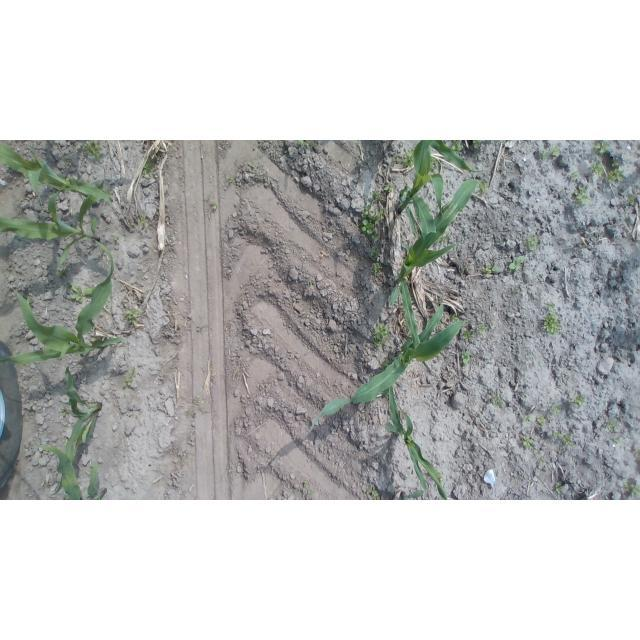Maize: (310, 293, 474, 432), (388, 179, 486, 350), (0, 238, 124, 362), (0, 164, 108, 268), (397, 140, 485, 241), (0, 141, 116, 210), (385, 385, 447, 500), (49, 364, 103, 495), (34, 444, 107, 501), (401, 489, 423, 500)
Weeds: (356, 203, 385, 241), (67, 282, 91, 303), (373, 322, 390, 350), (542, 313, 559, 335), (539, 145, 561, 162), (553, 429, 573, 446), (81, 142, 101, 159), (575, 186, 590, 207), (294, 481, 314, 496), (124, 307, 140, 325), (524, 233, 539, 251), (589, 160, 603, 179), (607, 169, 625, 183), (368, 189, 384, 204), (624, 482, 640, 497), (510, 255, 525, 271), (144, 157, 155, 178), (596, 141, 611, 156), (364, 488, 381, 500), (403, 148, 413, 168), (371, 262, 384, 276), (571, 393, 584, 407), (551, 401, 562, 416), (462, 350, 472, 366), (535, 451, 545, 467), (523, 435, 533, 450), (137, 213, 147, 228), (299, 140, 317, 148), (492, 395, 503, 408), (545, 300, 556, 313), (59, 406, 71, 417), (477, 322, 488, 334), (482, 264, 494, 275), (439, 232, 450, 244), (606, 420, 616, 433), (369, 245, 380, 256), (462, 329, 474, 339), (450, 141, 462, 151), (122, 378, 135, 387), (185, 409, 196, 419), (626, 193, 637, 203), (57, 268, 67, 279), (536, 413, 545, 425), (430, 158, 438, 171), (225, 172, 235, 182), (103, 187, 113, 197), (556, 480, 563, 494), (472, 140, 484, 148), (129, 367, 136, 380), (384, 184, 397, 191), (209, 201, 217, 212), (194, 393, 201, 405), (450, 314, 459, 323), (521, 414, 531, 422), (571, 171, 581, 179), (635, 447, 640, 462), (249, 161, 258, 169), (509, 287, 517, 295), (114, 236, 121, 244), (307, 280, 316, 286), (436, 470, 442, 479), (27, 296, 33, 305), (199, 408, 206, 415), (615, 437, 622, 444), (64, 161, 72, 167), (196, 325, 202, 332), (384, 358, 389, 366), (612, 162, 620, 167), (393, 156, 398, 163), (362, 416, 367, 420), (511, 478, 515, 483), (381, 365, 385, 369), (330, 348, 334, 352), (499, 140, 506, 142), (463, 377, 466, 380)
